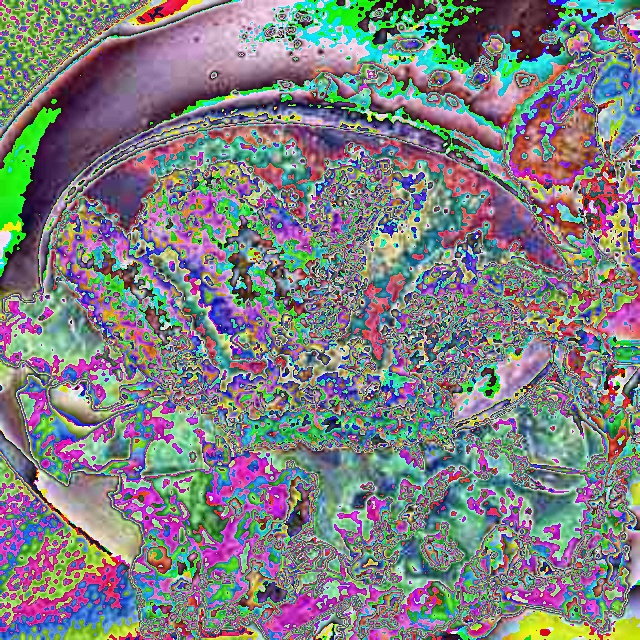background: (0, 43, 640, 639)
